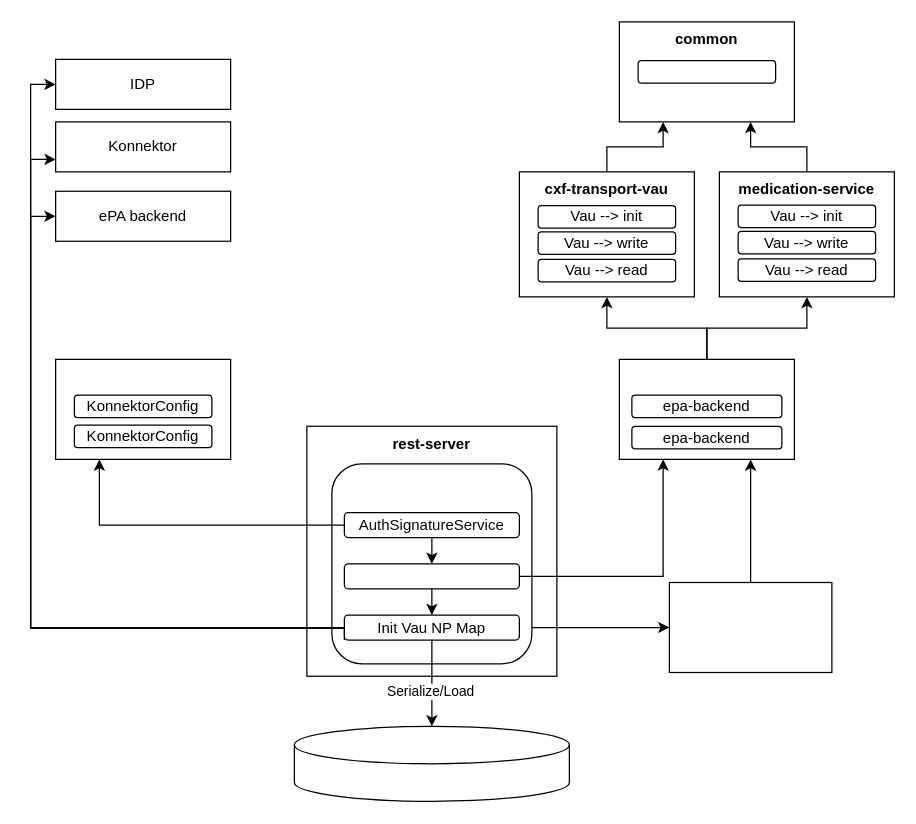
Image size: 916x824. Some labels were removed from this diagram. The shapes that lost their labels are listed below. From the top down, each one's box as (x1, y1, x2, y2) in pixels, then its label:
(637, 59, 776, 83): VauFacade
(54, 358, 231, 459): lib-cetp
(618, 358, 794, 459): api-epa
(343, 562, 519, 589): AuthorizationSmcBApi
(331, 462, 532, 664): IdpClient
(668, 581, 832, 672): Supply VauNP for konnektorName and ePA backend host
(293, 725, 569, 801): Storage (FileSystem)
